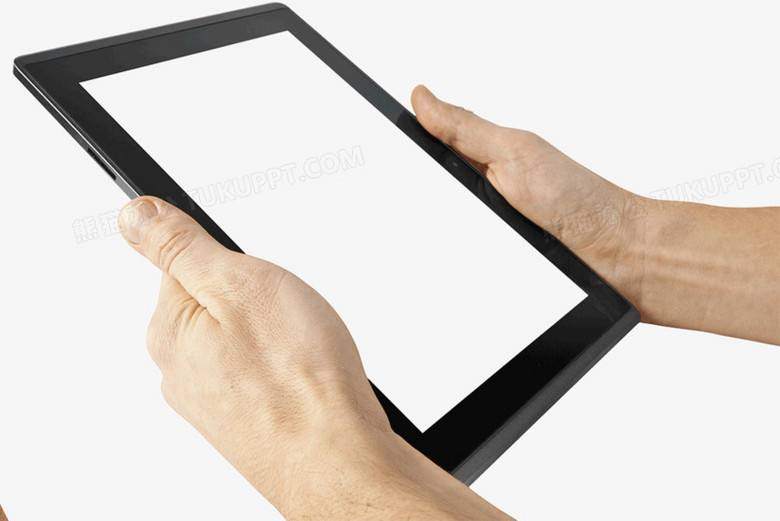pad: (9, 5, 693, 508)
